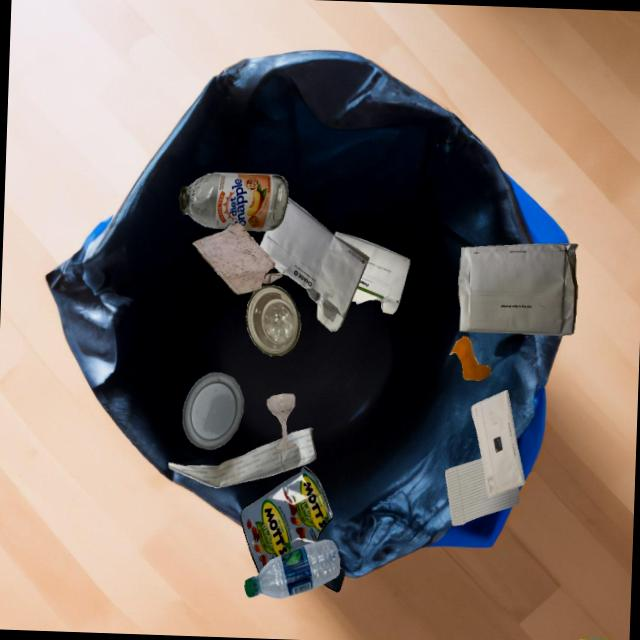biowaste: (449, 335, 490, 380)
glass: (179, 172, 288, 231), (245, 285, 300, 355), (267, 393, 296, 451)
paper: (259, 197, 369, 331), (458, 243, 578, 335), (168, 428, 316, 488), (191, 223, 282, 294), (334, 231, 410, 314), (471, 390, 525, 497), (445, 458, 519, 525)
plastic: (244, 539, 340, 598), (182, 372, 243, 449)
trash: (240, 465, 333, 573)
